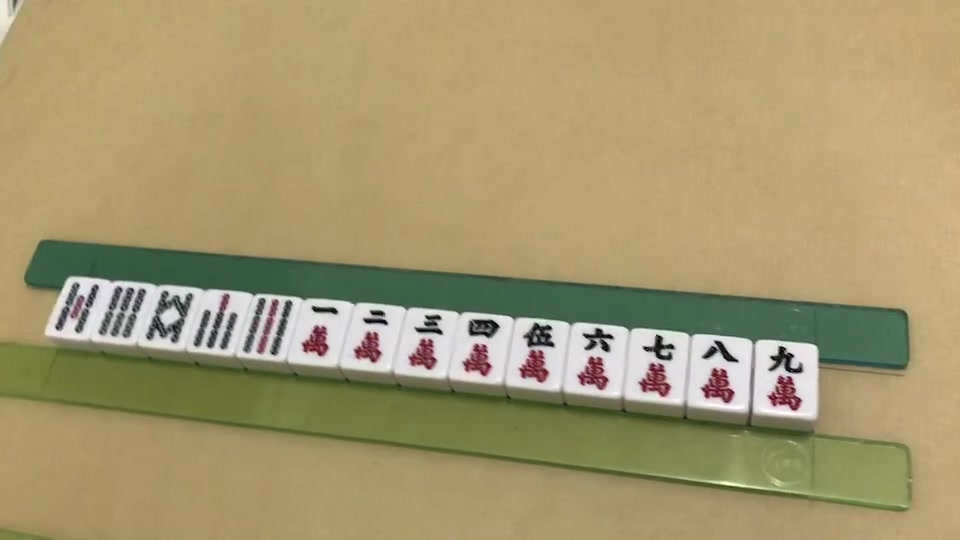1m: (304, 304, 338, 352)
2m: (355, 308, 393, 361)
3m: (411, 313, 447, 368)
4m: (463, 319, 497, 373)
5m: (521, 323, 551, 378)
5s: (55, 278, 99, 330)
6m: (577, 328, 611, 389)
6s: (106, 287, 143, 337)
7m: (637, 336, 679, 396)
7s: (194, 289, 239, 349)
8m: (700, 342, 741, 402)
8s: (150, 292, 190, 341)
9m: (763, 345, 806, 411)
9s: (243, 296, 291, 354)
